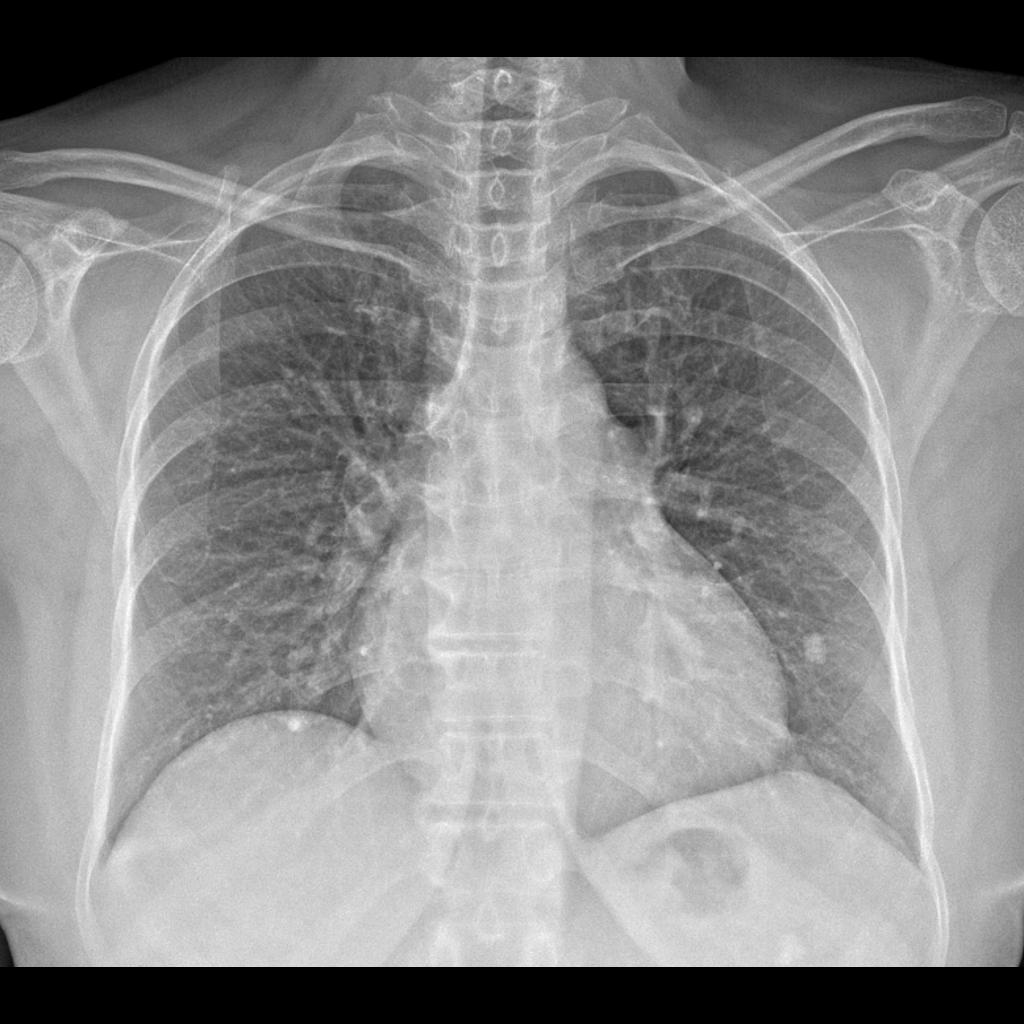Nodule: (807, 633, 828, 665)
